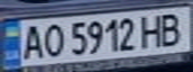1: (103, 16, 124, 53)
2: (118, 15, 139, 52)
5: (66, 19, 87, 56)
9: (84, 18, 106, 55)
A: (18, 21, 45, 61)
B: (157, 10, 187, 47)
H: (136, 11, 166, 48)
O: (39, 20, 66, 58)
